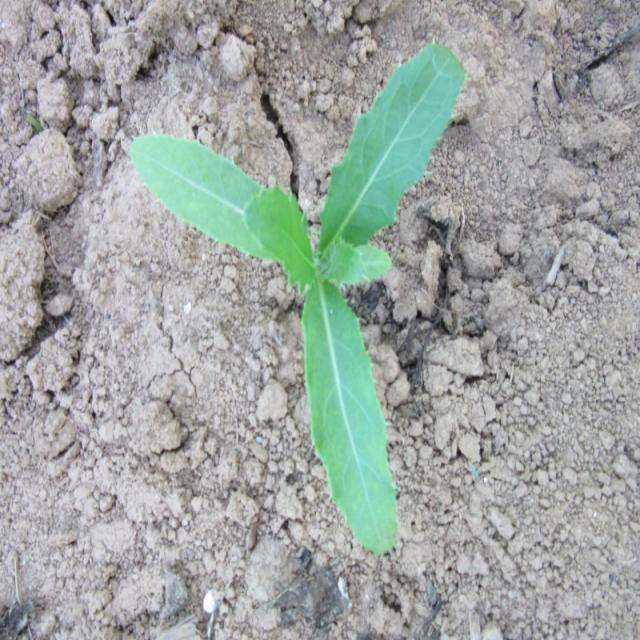cs: (126, 39, 466, 559)
